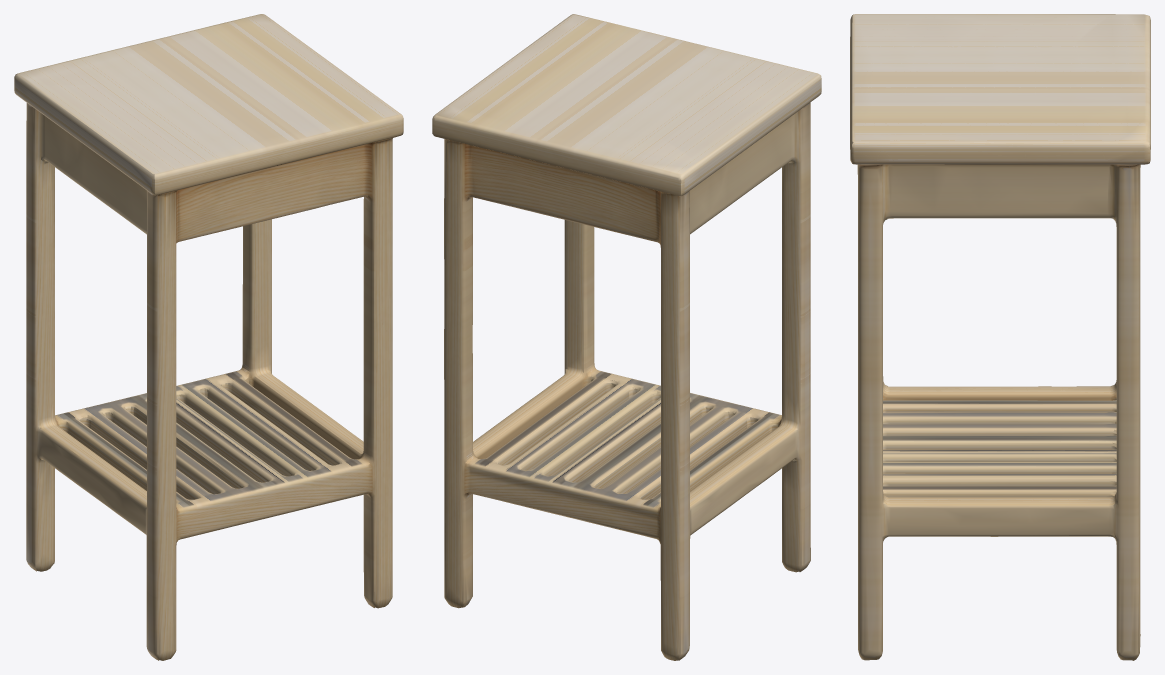
Rendered from square-table.glb.
The picture shows the model from 3 angles, left to right: view 1: azimuth 30°, elevation 25°; view 2: azimuth 150°, elevation 25°; view 3: azimuth 270°, elevation 25°; orthographic projection. The views are drawn at different scales.
Parts seen in each view (by area): view 1: Mesh_0; view 2: Mesh_0; view 3: Mesh_0.
Boxes of the visible parts, bbox=[...] form: Mesh_0: bbox=[14, 14, 403, 660]; Mesh_0: bbox=[432, 14, 821, 660]; Mesh_0: bbox=[850, 14, 1150, 660].
Size of the model in its own units: 0.2938 by 0.5492 by 0.2857.
Materials: 1 (1 with a texture image).
